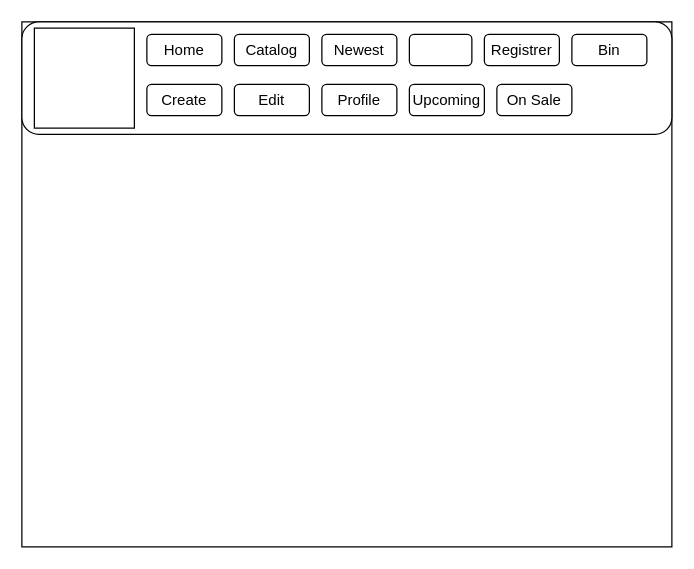
The diagram is 694 pixels wide and 569 high, and some of its shapes have lost their labels. The shapes that lost their labels are listed below. From the top down, each one's centre as x and y in pixels, then its label:
[440,49]: Login
[83,77]: Logo
